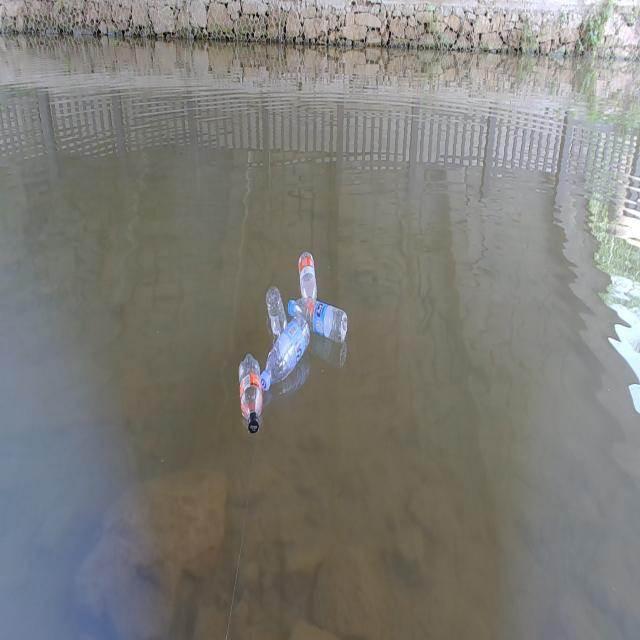Bottle: (262, 312, 310, 390), (286, 294, 348, 341), (237, 350, 265, 434), (297, 246, 319, 310)
